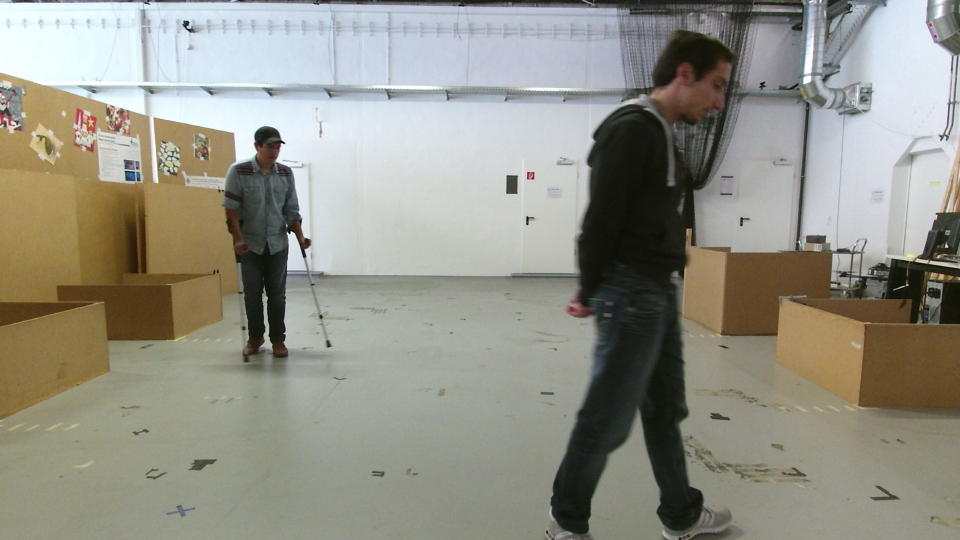crutches: (218, 115, 329, 368)
